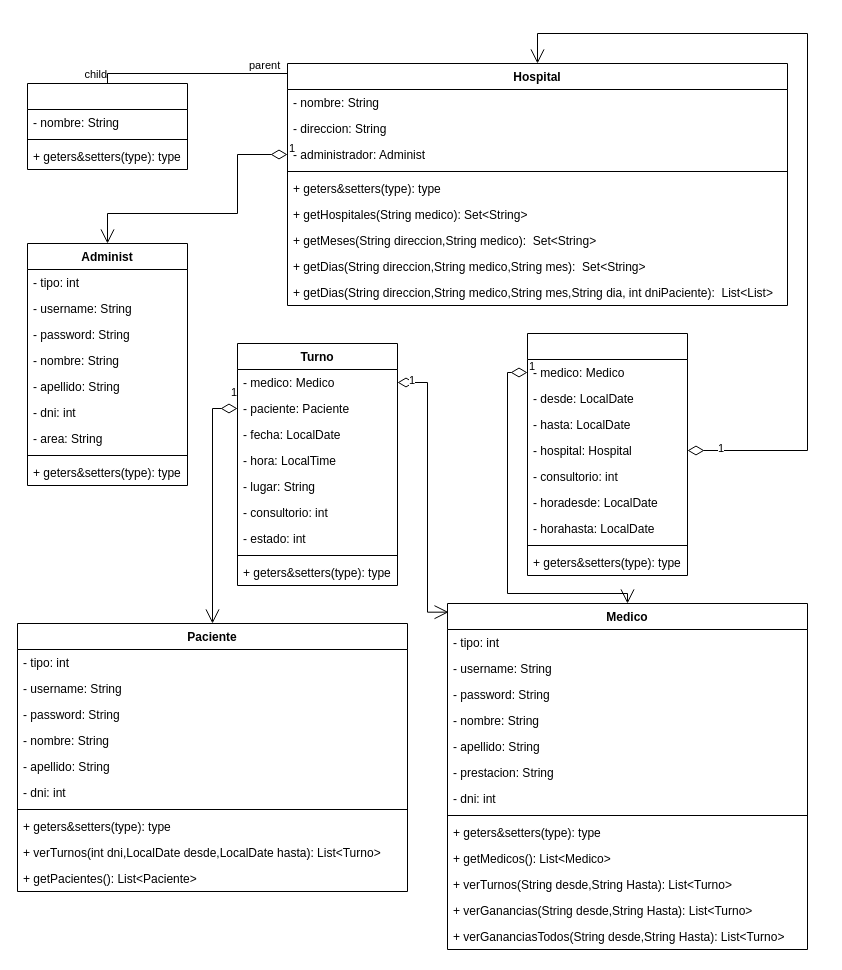
Image size: 842x970. Some labels were removed from this diagram. Each missing label, with the box of its shape:
Consultorio: (26, 82, 188, 170)
Disponibilidad: (526, 332, 688, 576)
